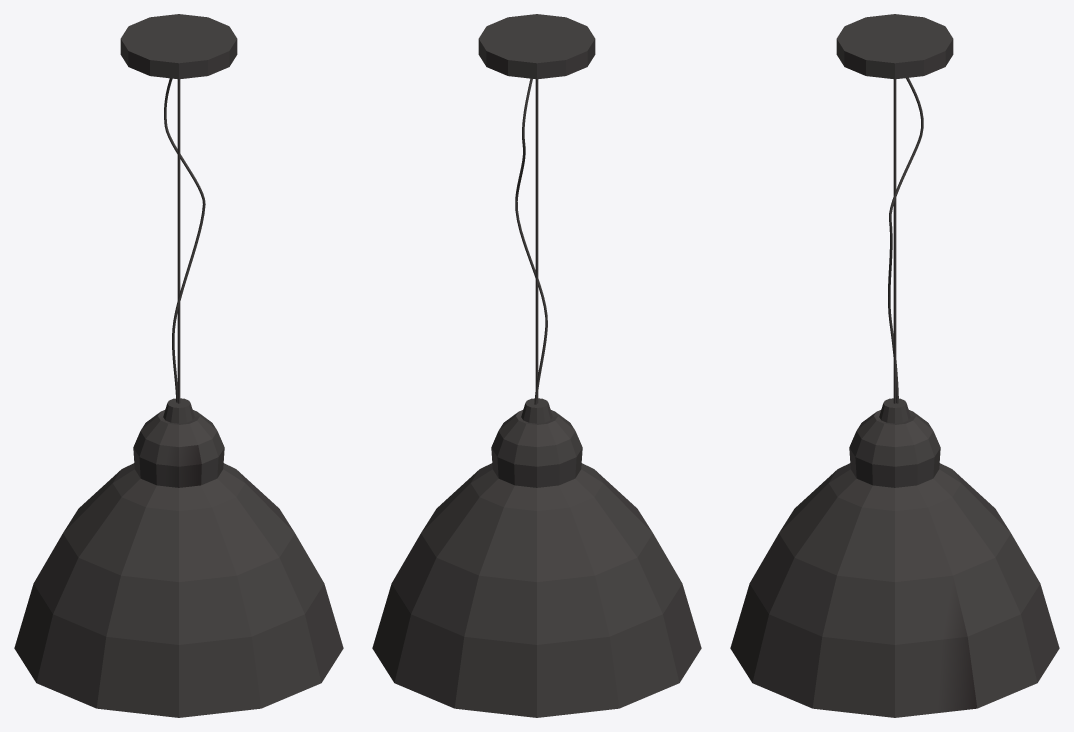
The model's file is lampa_wiszaca.fbx.
The picture shows the model from 3 angles, left to right: view 1: azimuth 30°, elevation 25°; view 2: azimuth 150°, elevation 25°; view 3: azimuth 270°, elevation 25°; orthographic projection.
Visible parts, largest first — view 1: Cylinder.002; view 2: Cylinder.002; view 3: Cylinder.002.
Part boxes in pixels (bbox=[...]): Cylinder.002: bbox=[14, 14, 343, 717]; Cylinder.002: bbox=[372, 14, 701, 717]; Cylinder.002: bbox=[730, 14, 1059, 717].
Bounding box in the file's own units: 218 × 218 × 446.
